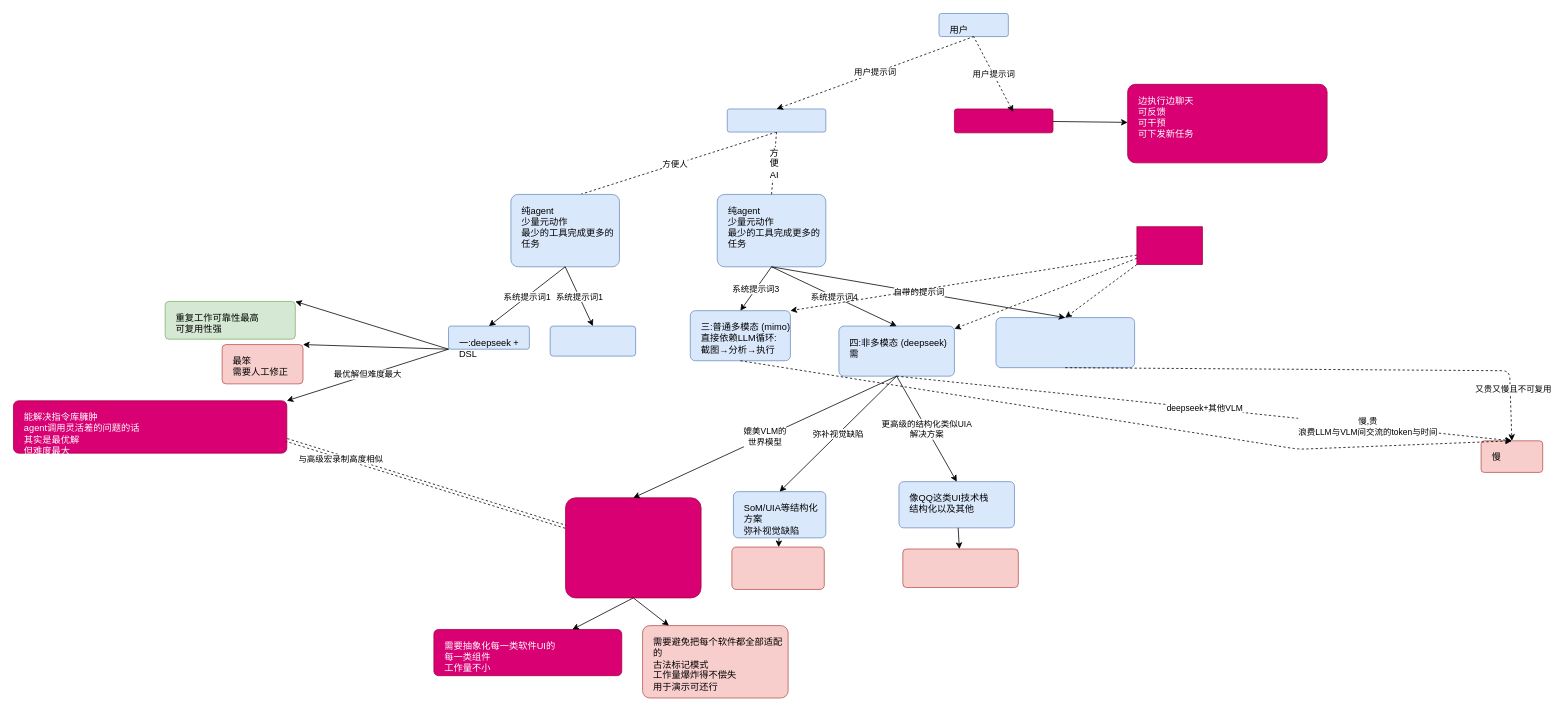
Image size: 1565x711. Some labels were removed from this diagram. The centre of each missing label's shape, as x and y in pixels:
"agent手动选择路由" goes at point (776, 120).
"agent自动路由系统" goes at point (1003, 120).
"skill 与 mcp" goes at point (1169, 245).
"二:离线DSL" goes at point (592, 340).
"五:有标记的多模态 (claude) computer use 风格 一步到位" goes at point (1065, 342).
"其他多种UI技术栈 结构化(难度大)" goes at point (960, 568).
"无视觉理解,感知差" goes at point (777, 567).
"自定义更多标记维度 比如标记多一点同类型的 比如搜索框 减轻LLM压力 极致压缩感知模块与agent之间 的提示词或者完全结构化" goes at point (633, 547).
